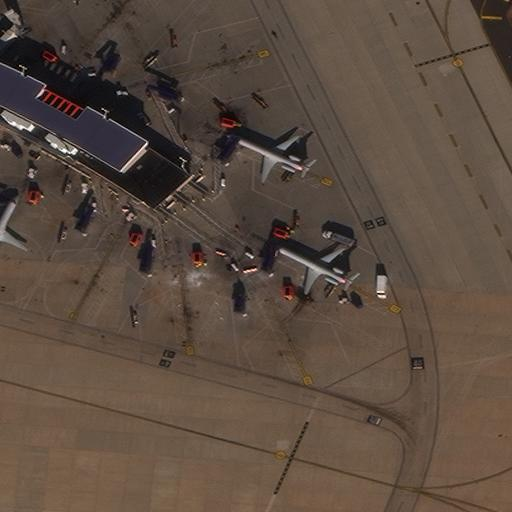Medium Civil Transport: (269, 244, 351, 293), (226, 134, 308, 181), (0, 195, 27, 257)
